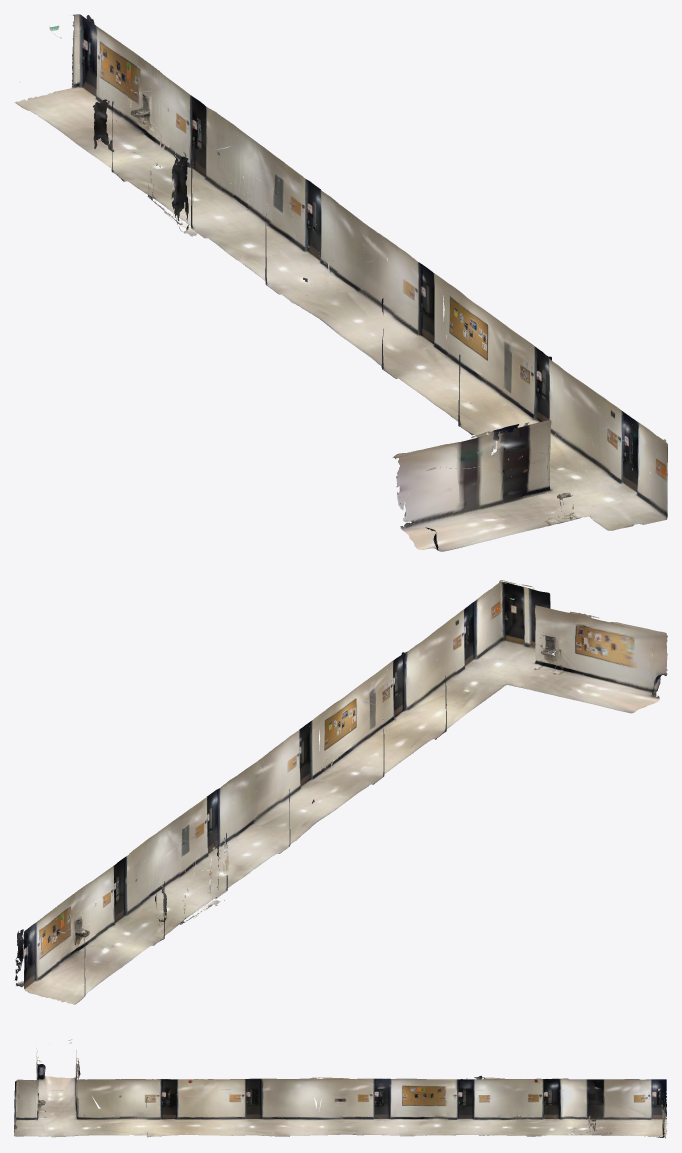
File: right2.glb
The picture shows the model from 3 angles, top to bottom: view 1: azimuth 30°, elevation 25°; view 2: azimuth 150°, elevation 25°; view 3: azimuth 270°, elevation 25°; orthographic projection. The views are drawn at different scales.
Visible parts, largest first — view 1: right2_F2; view 2: right2_F2; view 3: right2_F2.
Boxes of the visible parts, x1,y1,x2,y2 form: right2_F2: (15, 14, 667, 551); right2_F2: (15, 580, 667, 1004); right2_F2: (14, 1039, 667, 1138).
Bounding box in the file's own units: 8.67 × 2.94 × 37.81.
1 material, 1 textured.
